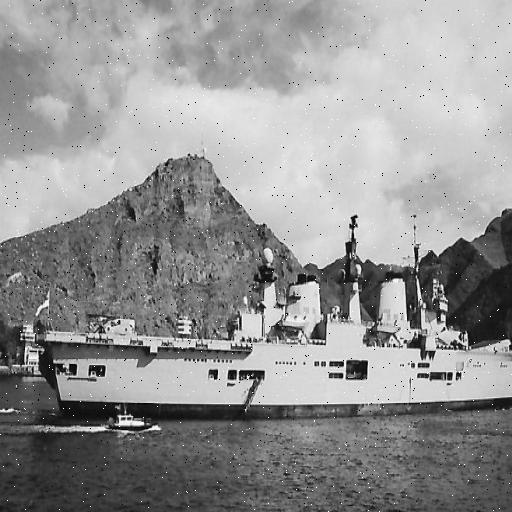Portanaves: (37, 196, 512, 431)
